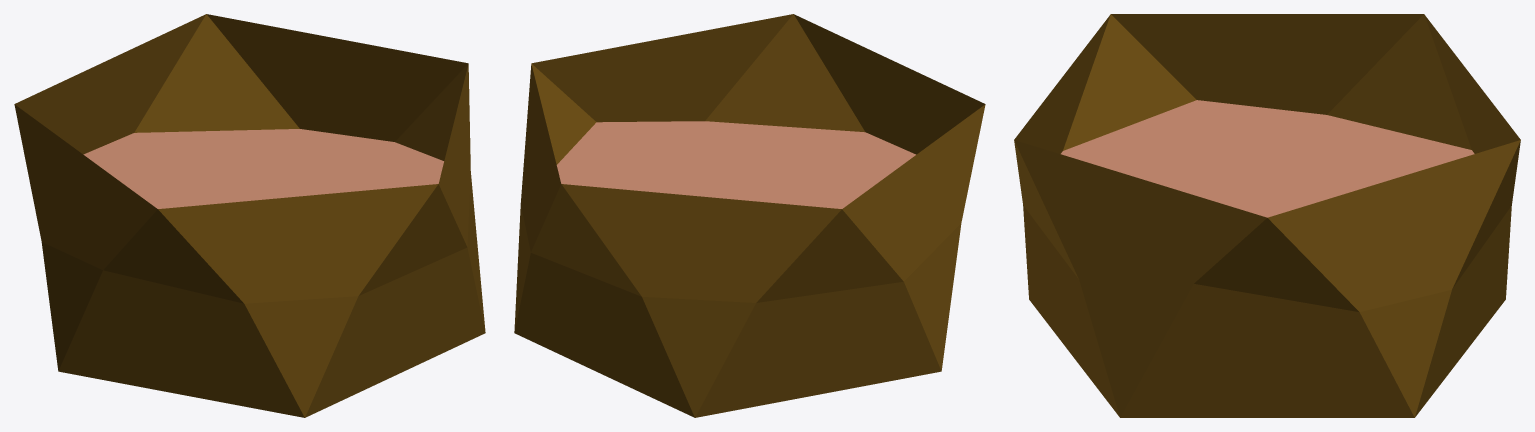
File: sopa.fbx
3 renders of one model, left to right at view 1: azimuth 30°, elevation 25°; view 2: azimuth 150°, elevation 25°; view 3: azimuth 270°, elevation 25°, orthographic. The views are drawn at different scales.
Visible parts, largest first — view 1: Sopa; view 2: Sopa; view 3: Sopa.
Boxes of the visible parts, box(x1,y1,x2,y2) form: Sopa: box(14, 14, 485, 417); Sopa: box(514, 14, 985, 417); Sopa: box(1014, 14, 1520, 417).
Bounding box in the file's own units: 185 × 89.44 × 181.
